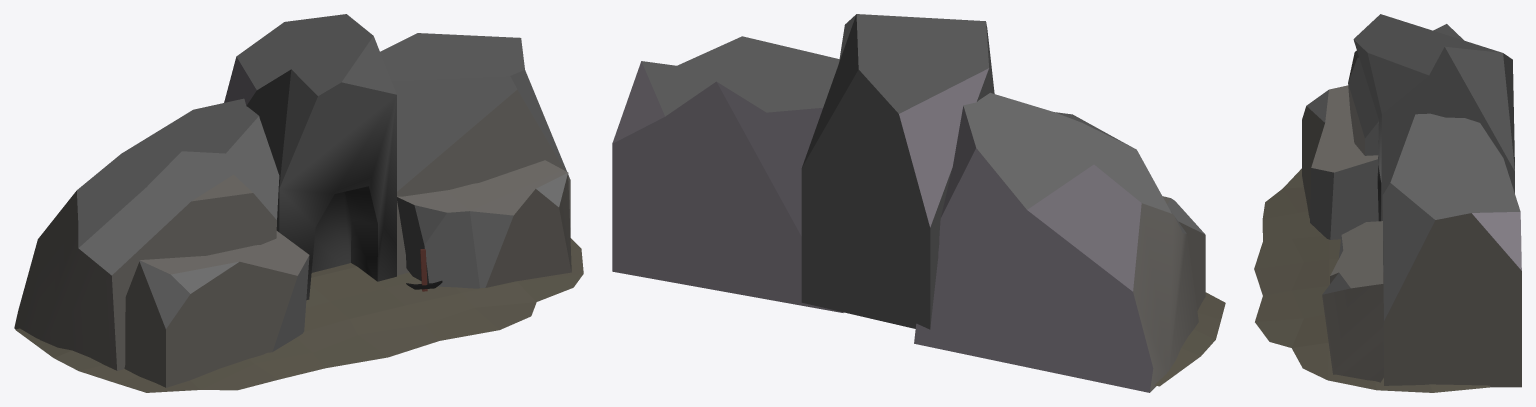
The model's file is irone mine Lo.fbx.
3 renders of one model, left to right at view 1: azimuth 30°, elevation 25°; view 2: azimuth 150°, elevation 25°; view 3: azimuth 270°, elevation 25°, orthographic. The views are drawn at different scales.
Visible parts, largest first — view 1: rock, Plane; view 2: rock, Plane; view 3: rock, Plane.
Boxes of the visible parts, bbox=[...] form: rock: bbox=[14, 14, 571, 387]; Plane: bbox=[15, 238, 583, 392]; rock: bbox=[612, 14, 1205, 392]; Plane: bbox=[1154, 292, 1225, 386]; rock: bbox=[1302, 14, 1521, 387]; Plane: bbox=[1254, 168, 1490, 392].
Bounding box in the file's own units: 911 × 443 × 425.
